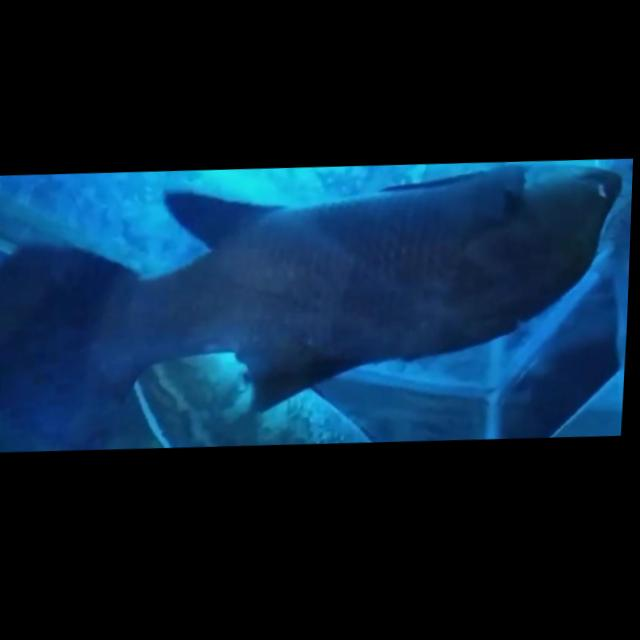Seabass: (0, 149, 622, 443)
